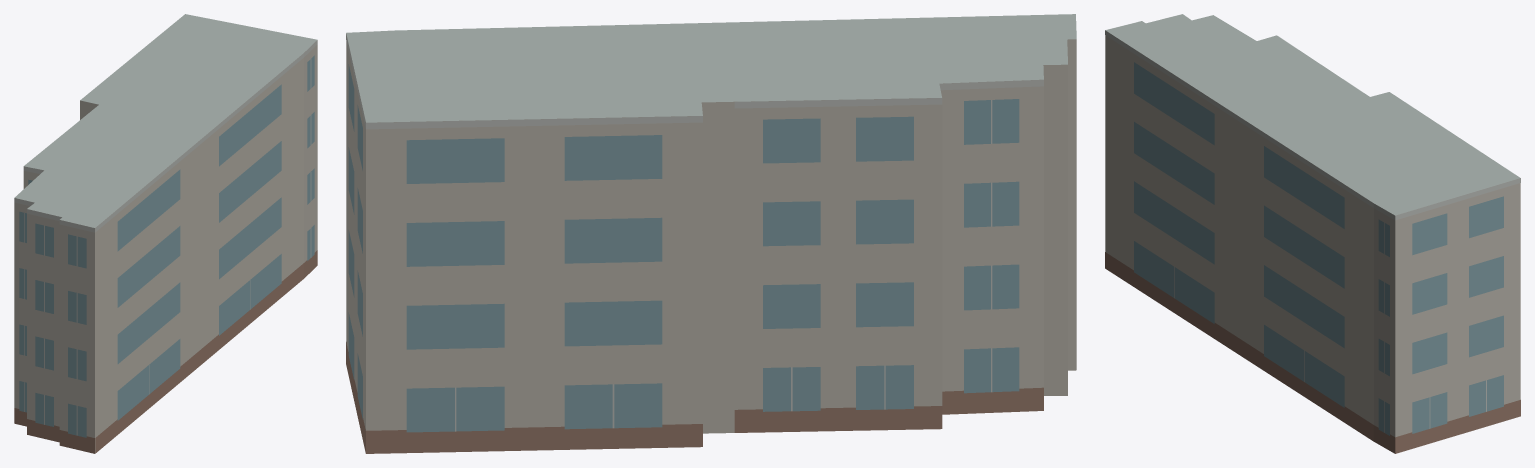
File: survey-upis-32941842.glb
3 views of the same model, side by side, from view 1: azimuth 30°, elevation 25°; view 2: azimuth 150°, elevation 25°; view 3: azimuth 270°, elevation 25° (orthographic). The views are drawn at different scales.
Parts seen in each view (by area): view 1: survey-upis-32941842.tmp; view 2: survey-upis-32941842.tmp; view 3: survey-upis-32941842.tmp.
Boxes of the visible parts, box(x1,y1,x2,y2) form: survey-upis-32941842.tmp: box(14, 14, 317, 453); survey-upis-32941842.tmp: box(346, 14, 1076, 453); survey-upis-32941842.tmp: box(1105, 14, 1520, 453).
Bounding box in the file's own units: 21.78 × 12 × 18.98.
